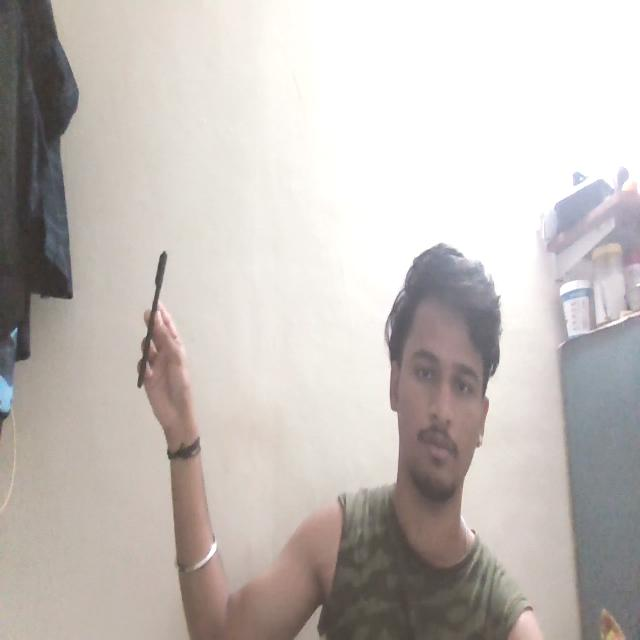pen: (137, 242, 170, 390)
